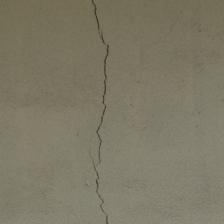Crack: (16, 1, 102, 113), (0, 0, 113, 62)
